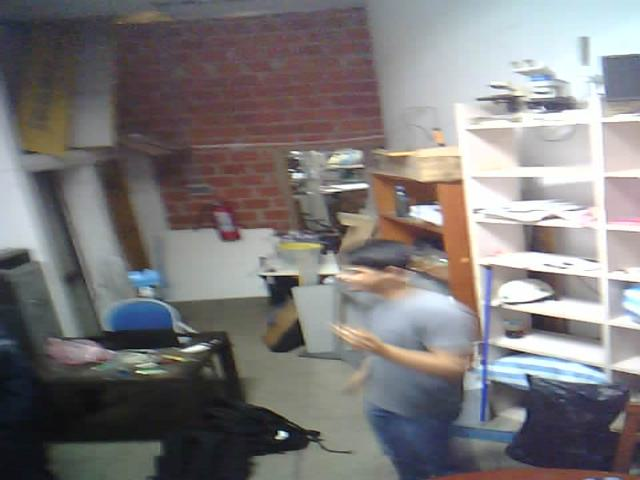person: (316, 221, 476, 480)
